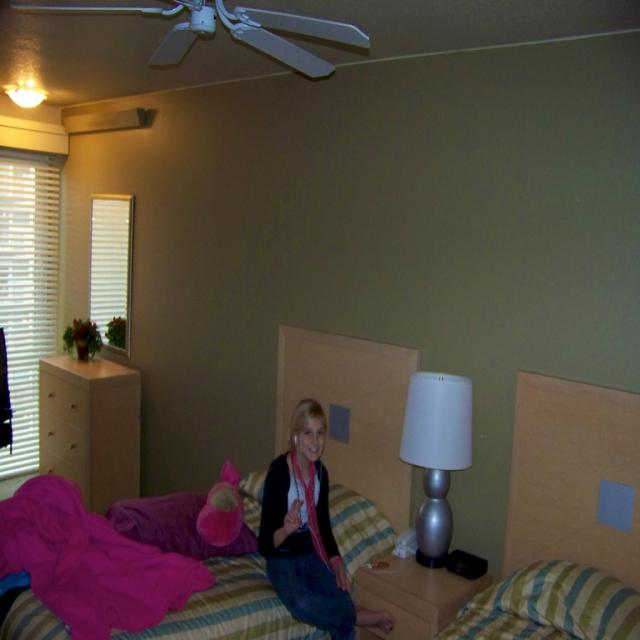Bulb: (9, 0, 368, 81)
